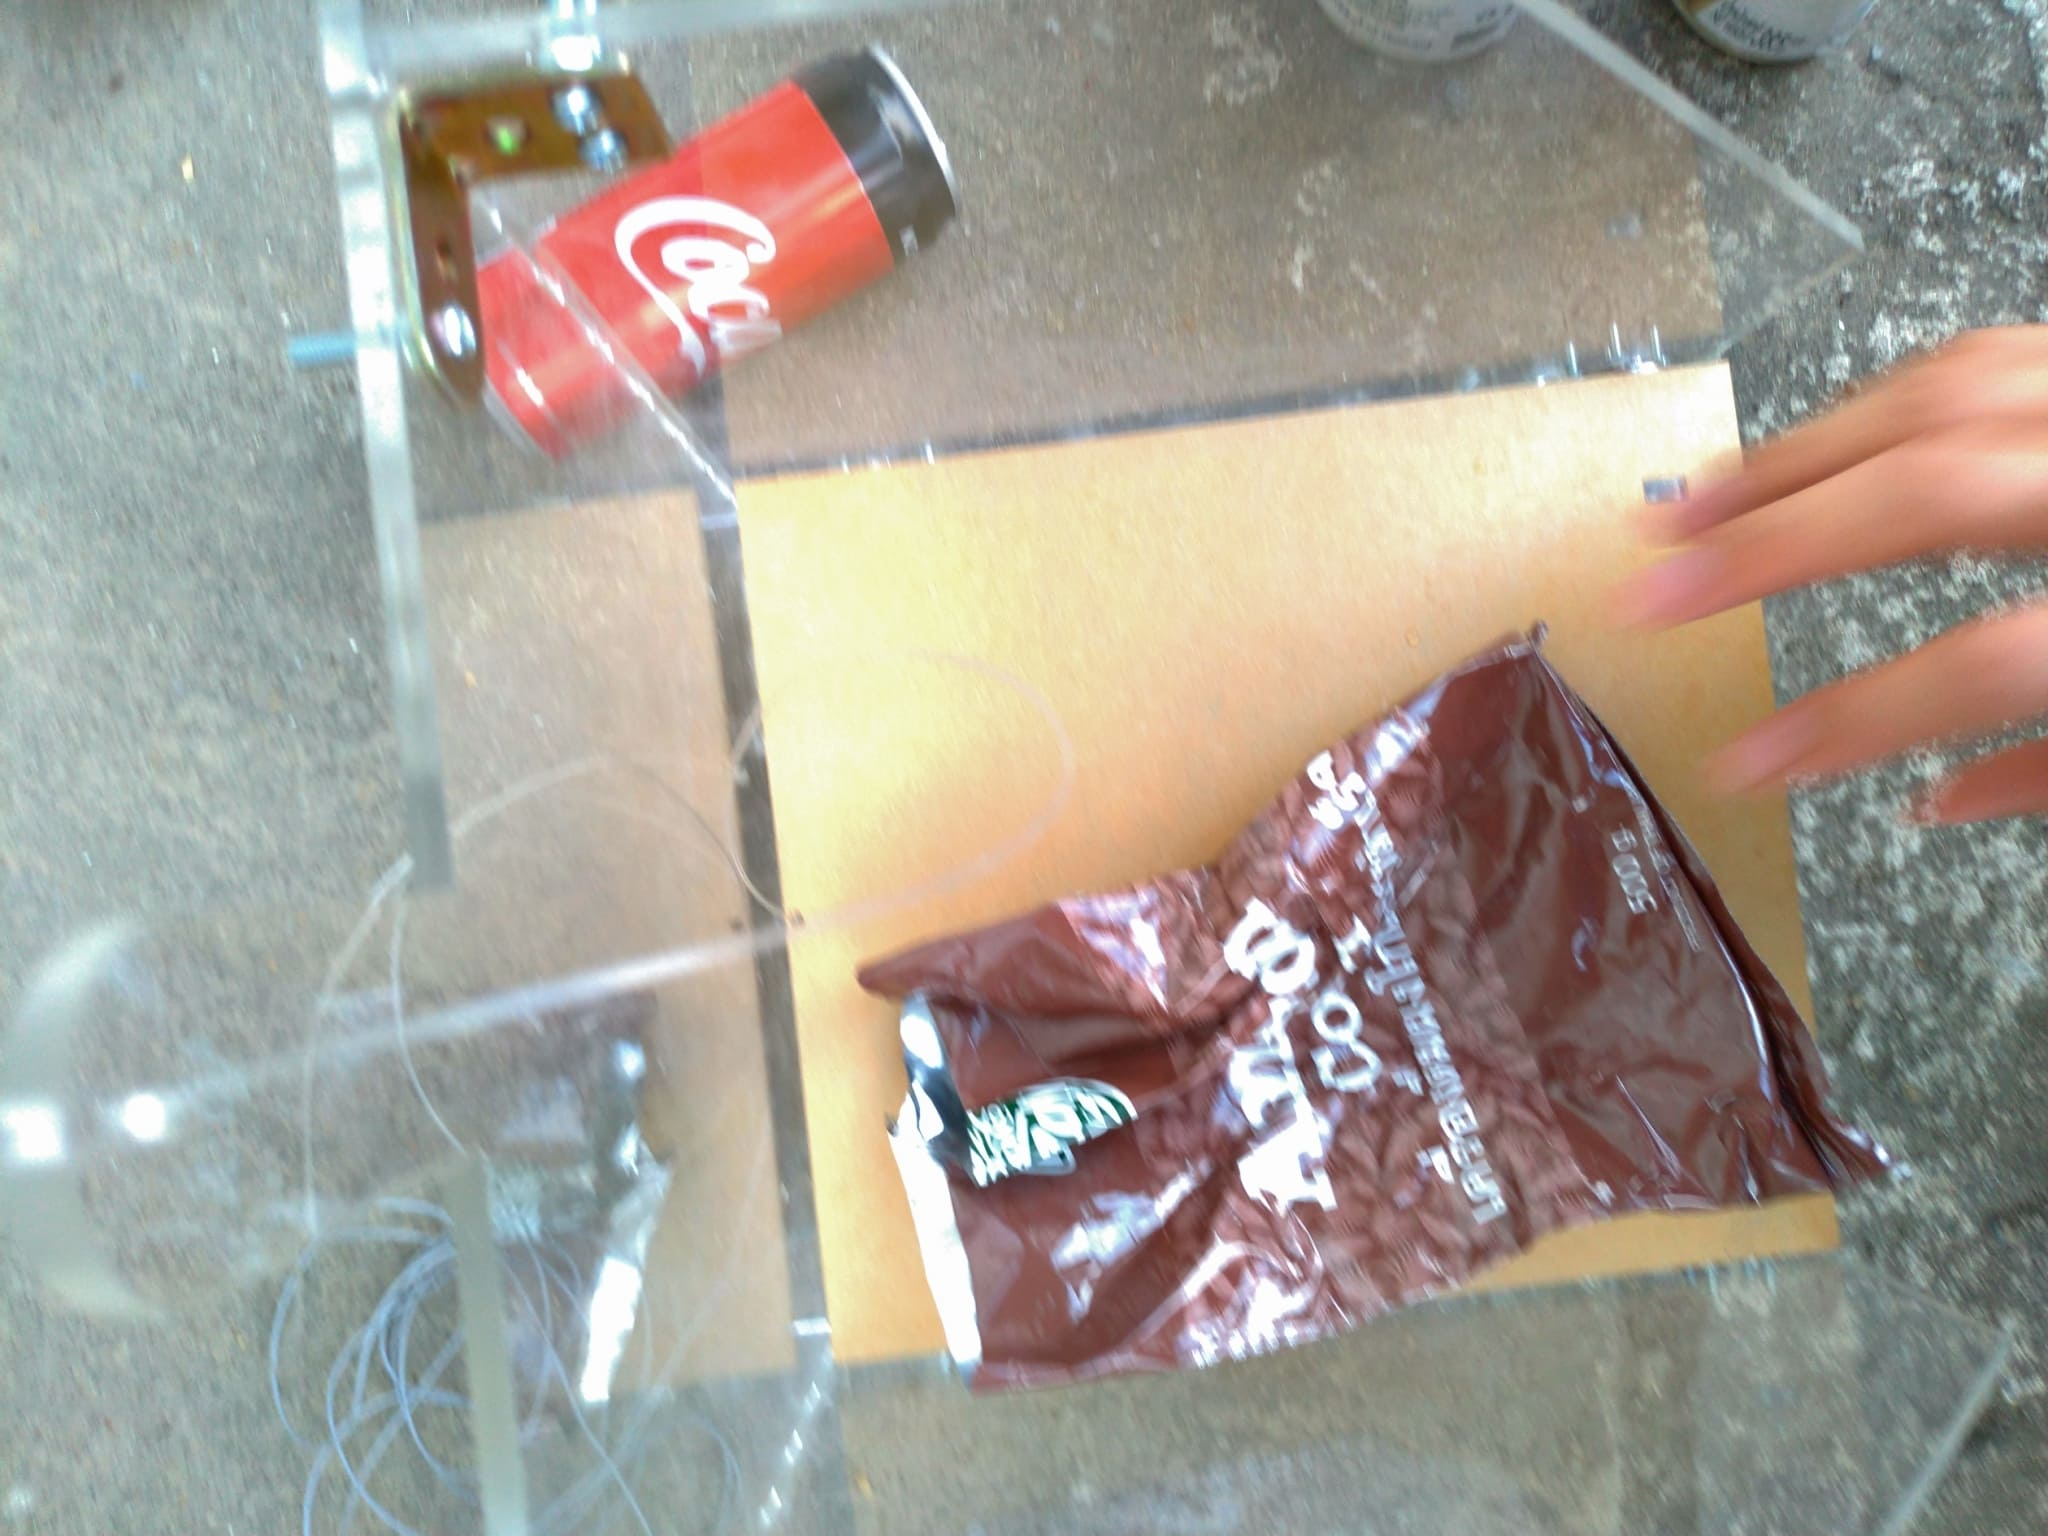AlCan: (443, 53, 955, 461)
Others: (860, 624, 1888, 1405)
